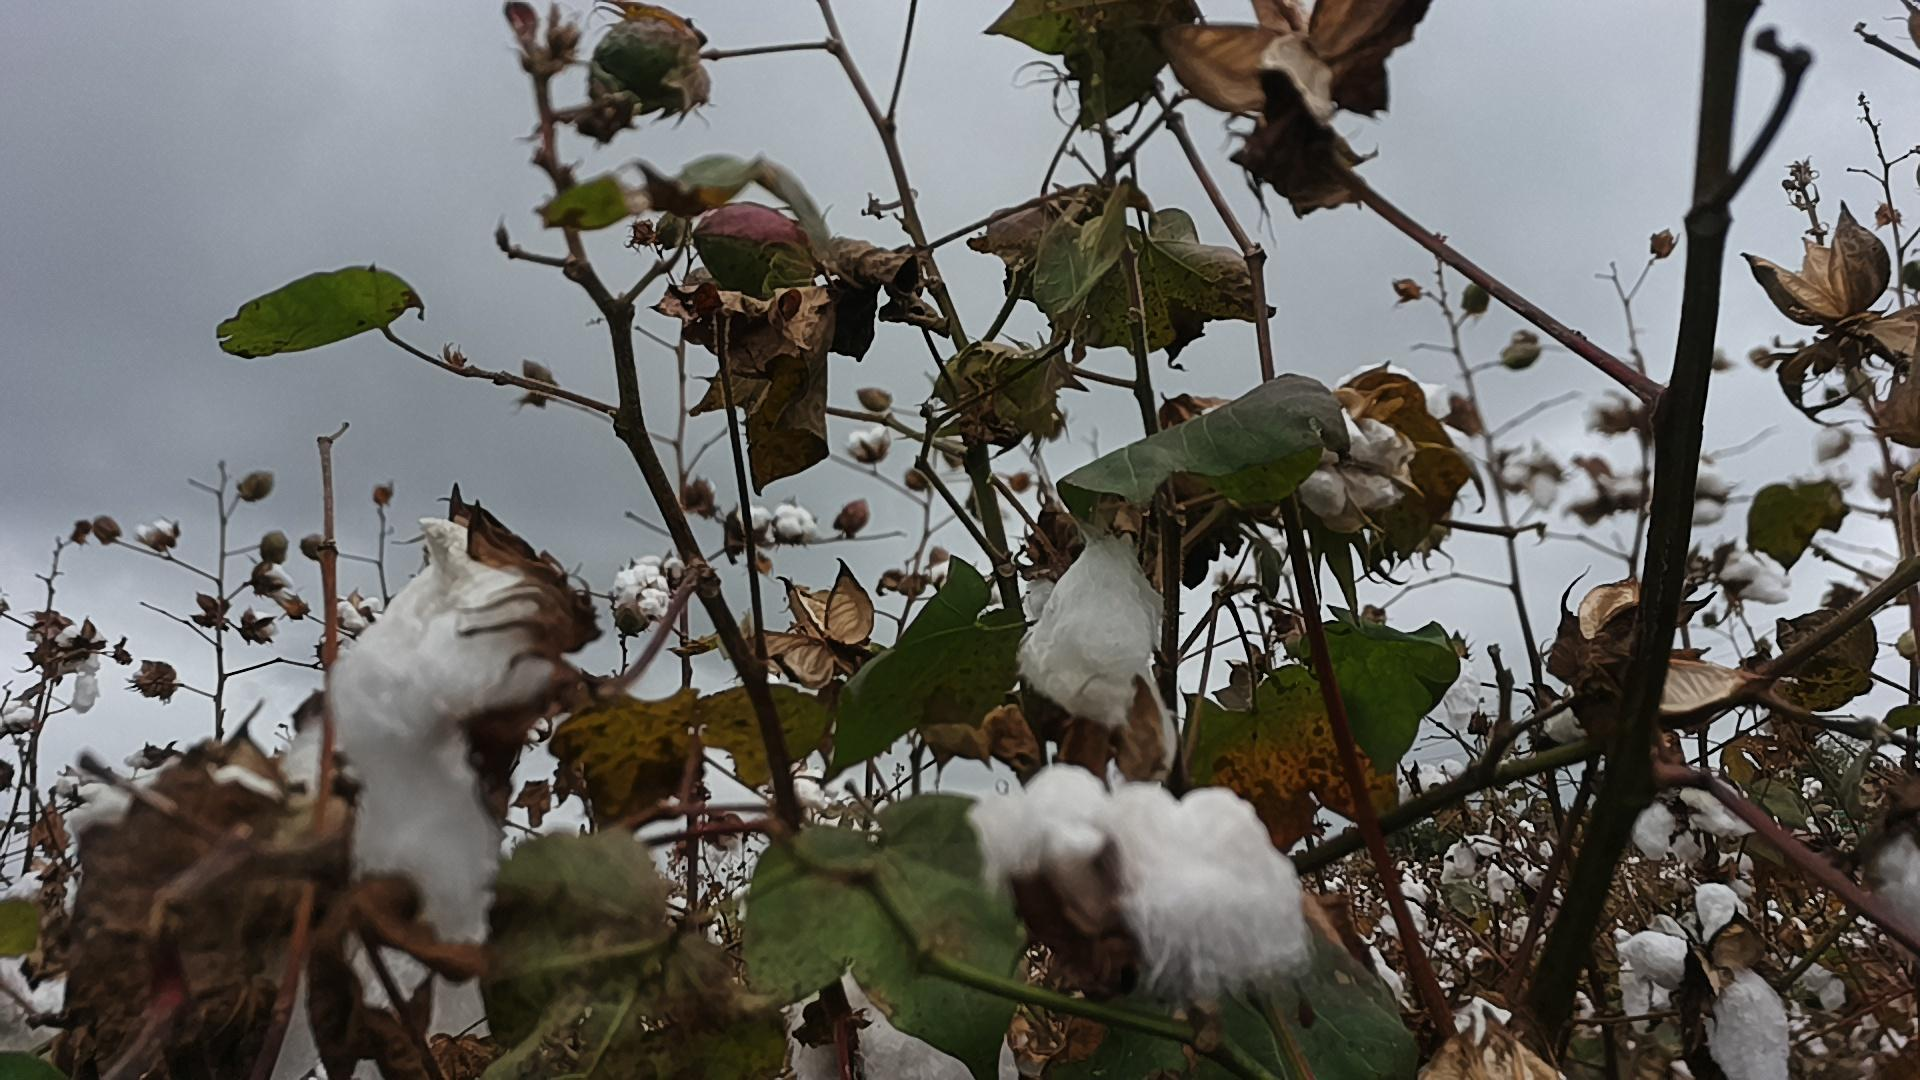cotton_ready: (338, 516, 558, 947), (969, 766, 1305, 1001), (1622, 884, 1796, 1080), (270, 935, 496, 1080), (1019, 533, 1168, 721), (789, 973, 1019, 1080), (1294, 415, 1411, 516), (1635, 787, 1749, 865), (1861, 825, 1920, 947), (1336, 365, 1456, 419)
